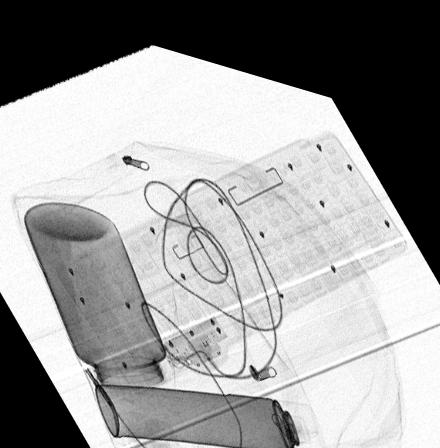Sprayer: (94, 378, 326, 439)
